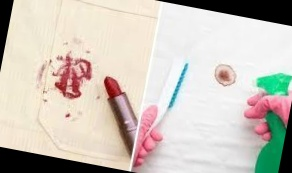blood: (213, 60, 241, 89)
lipstick: (42, 48, 108, 126), (28, 56, 54, 94), (57, 35, 96, 58)
